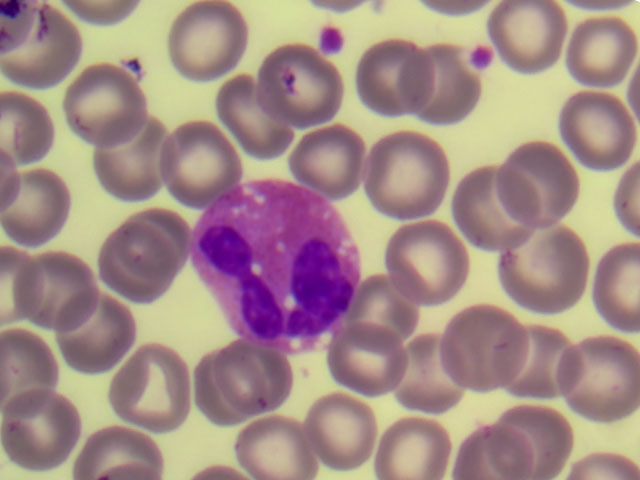Platelets: (322, 29, 340, 51), (476, 44, 491, 70)
RBC: (497, 217, 585, 308), (550, 92, 637, 172), (456, 162, 534, 251), (368, 132, 446, 220), (447, 302, 524, 391), (95, 110, 171, 198), (395, 37, 470, 126), (503, 139, 576, 230), (495, 319, 576, 400), (222, 75, 295, 164), (556, 340, 640, 417), (261, 52, 346, 125), (354, 36, 431, 116), (166, 5, 241, 83), (98, 228, 178, 301), (114, 350, 190, 426), (490, 407, 569, 480), (395, 334, 467, 414), (69, 70, 141, 145), (17, 257, 95, 326), (374, 409, 448, 480), (163, 124, 233, 199), (391, 224, 458, 302), (490, 3, 568, 70), (119, 208, 187, 282), (3, 172, 68, 249), (214, 343, 282, 416), (240, 416, 317, 480), (10, 10, 78, 79), (295, 125, 363, 193), (6, 393, 71, 464), (58, 297, 123, 368), (197, 348, 254, 428), (313, 398, 378, 468), (332, 326, 402, 391), (79, 423, 158, 480), (571, 20, 636, 86), (1, 334, 54, 411), (593, 243, 640, 329), (460, 426, 534, 480), (359, 275, 416, 345), (2, 93, 53, 165), (1, 248, 38, 324), (73, 1, 135, 29), (1, 1, 35, 52), (568, 456, 640, 480), (617, 162, 640, 237)
WBC: (189, 183, 354, 342)
